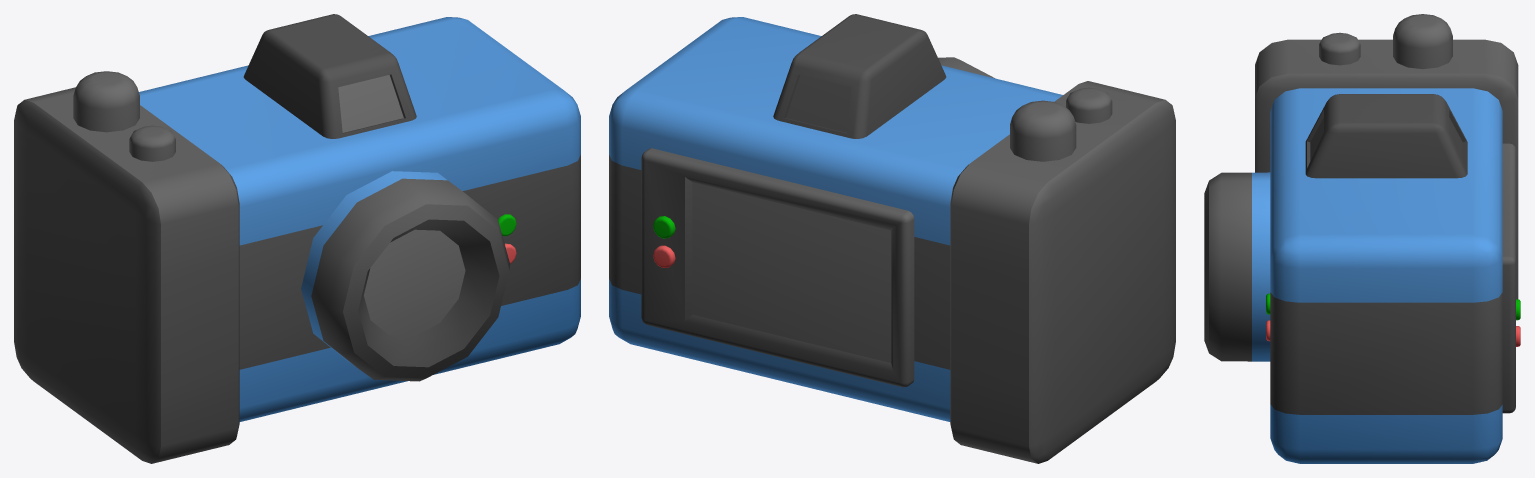
Rendered from Camera_2.glb.
3 renders of one model, left to right at view 1: azimuth 30°, elevation 25°; view 2: azimuth 150°, elevation 25°; view 3: azimuth 270°, elevation 25°, orthographic. The views are drawn at different scales.
Visible parts, largest first — view 1: Camera_2; view 2: Camera_2; view 3: Camera_2.
Boxes of the visible parts, box(x1,y1,x2,y2) form: Camera_2: box(14, 14, 580, 463); Camera_2: box(609, 14, 1175, 463); Camera_2: box(1204, 14, 1520, 463).
Size of the model in its own units: 0.162 by 0.111 by 0.1102.
Materials: 1 (1 with a texture image).
